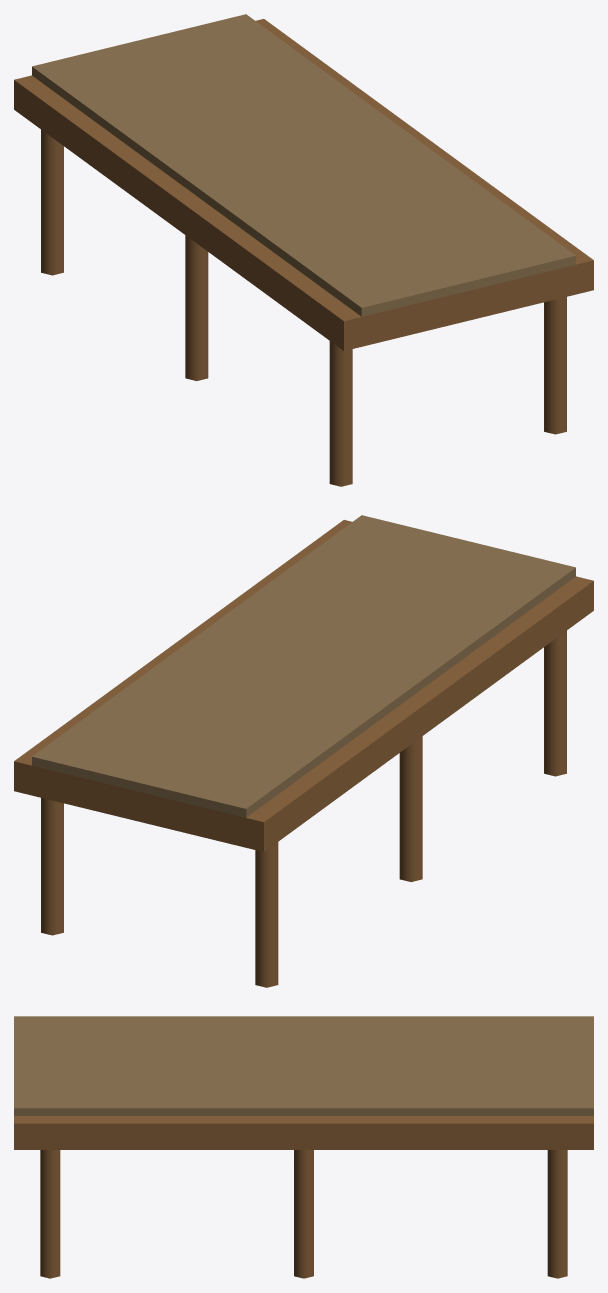
Rendered from road_dirt_bridge_lod2.glb.
The picture shows the model from 3 angles, top to bottom: view 1: azimuth 30°, elevation 25°; view 2: azimuth 150°, elevation 25°; view 3: azimuth 270°, elevation 25°; orthographic projection. The views are drawn at different scales.
Visible parts, largest first — view 1: body; view 2: body; view 3: body.
Boxes of the visible parts, x1,y1,x2,y2 form: body: [14, 14, 593, 486]; body: [14, 515, 593, 987]; body: [14, 1016, 593, 1278].
Bounding box in the file's own units: 3.5 × 2.52 × 8.
